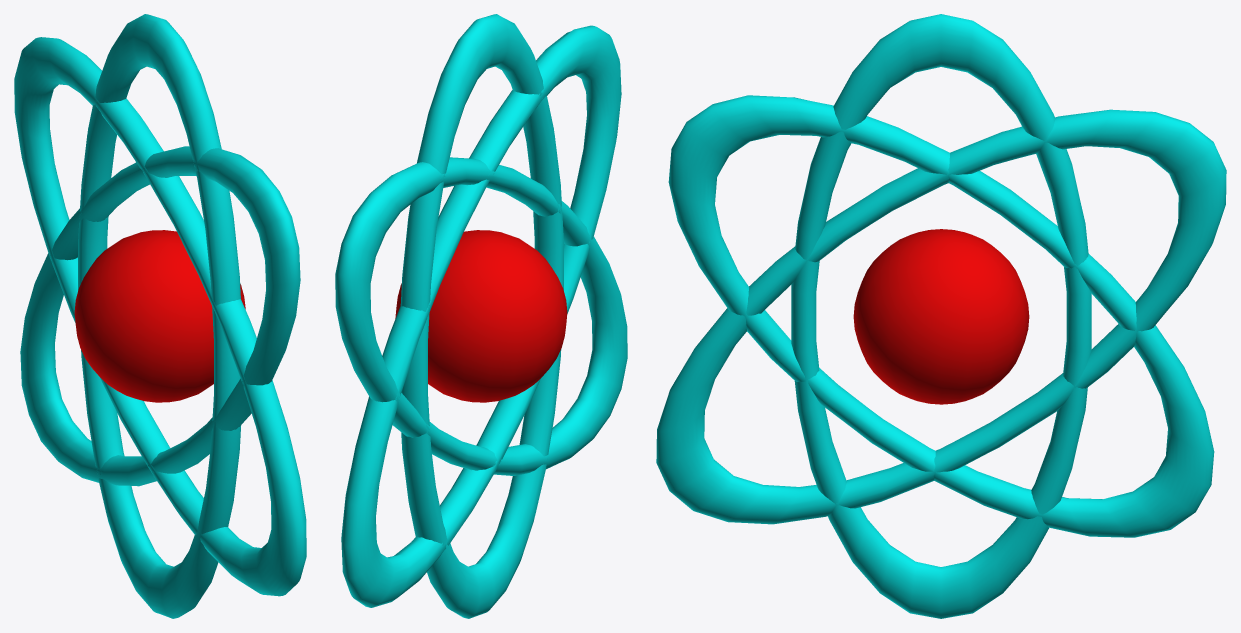
File: physics_atom-transformed.glb
The picture shows the model from 3 angles, left to right: view 1: azimuth 30°, elevation 25°; view 2: azimuth 150°, elevation 25°; view 3: azimuth 270°, elevation 25°; orthographic projection.
Visible parts, largest first — view 1: pTorus1_blue_0, pSphere1_red_0; view 2: pTorus1_blue_0, pSphere1_red_0; view 3: pTorus1_blue_0, pSphere1_red_0.
Boxes of the visible parts, bbox=[...] form: pTorus1_blue_0: bbox=[14, 14, 306, 618]; pSphere1_red_0: bbox=[74, 230, 245, 402]; pTorus1_blue_0: bbox=[335, 14, 627, 618]; pSphere1_red_0: bbox=[395, 230, 567, 402]; pTorus1_blue_0: bbox=[656, 14, 1226, 618]; pSphere1_red_0: bbox=[853, 229, 1029, 404].
Bounding box in the file's own units: 2.87 × 10.91 × 9.33.
